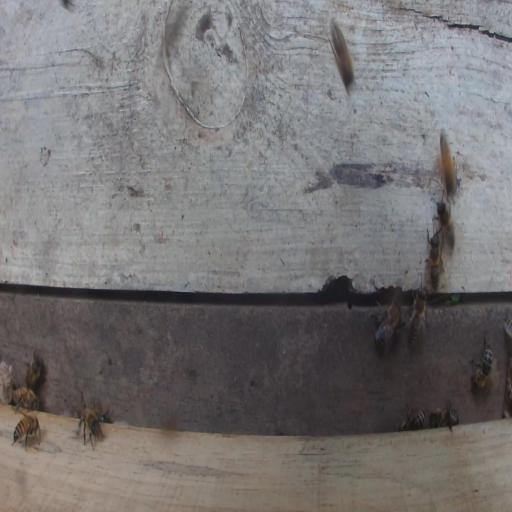nonpollenbee: (75, 392, 111, 451), (371, 293, 401, 355), (330, 19, 354, 96), (468, 334, 492, 391), (407, 286, 427, 346), (425, 229, 444, 290), (11, 413, 41, 451), (436, 201, 455, 250), (398, 404, 426, 431), (428, 406, 459, 430), (11, 386, 39, 411), (25, 351, 43, 389)
pollenbee: (433, 124, 458, 199)
